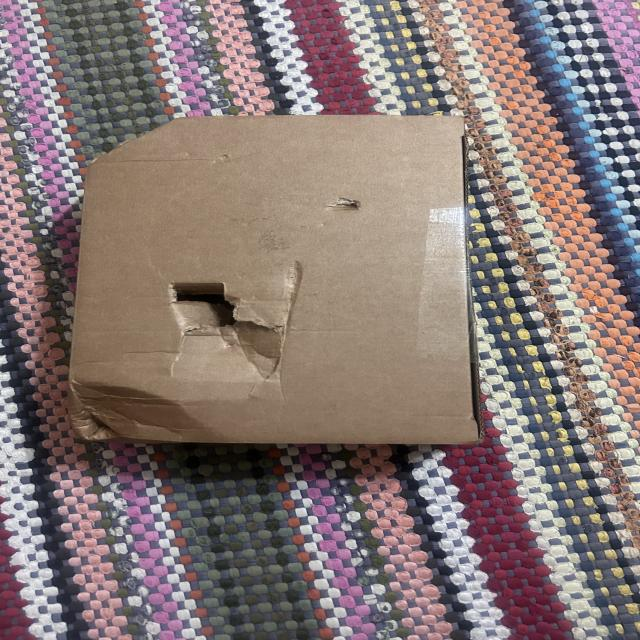damaged: (74, 111, 488, 462), (150, 270, 310, 391), (65, 376, 214, 452), (81, 118, 180, 161), (327, 194, 371, 218)
